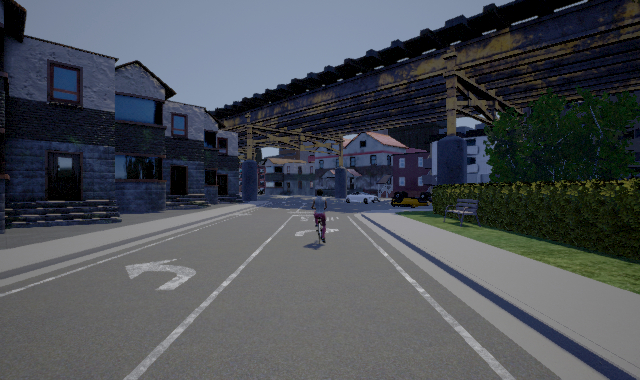bike: (310, 193, 327, 245)
vehicle: (391, 191, 433, 208), (345, 192, 380, 204)
